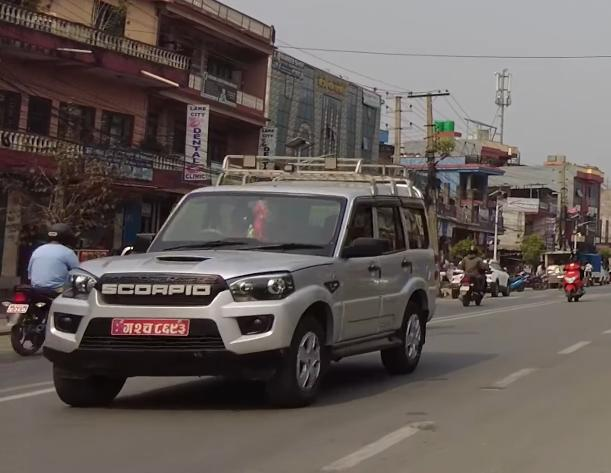SUV: (40, 146, 472, 416)
scooter: (558, 260, 586, 306)
